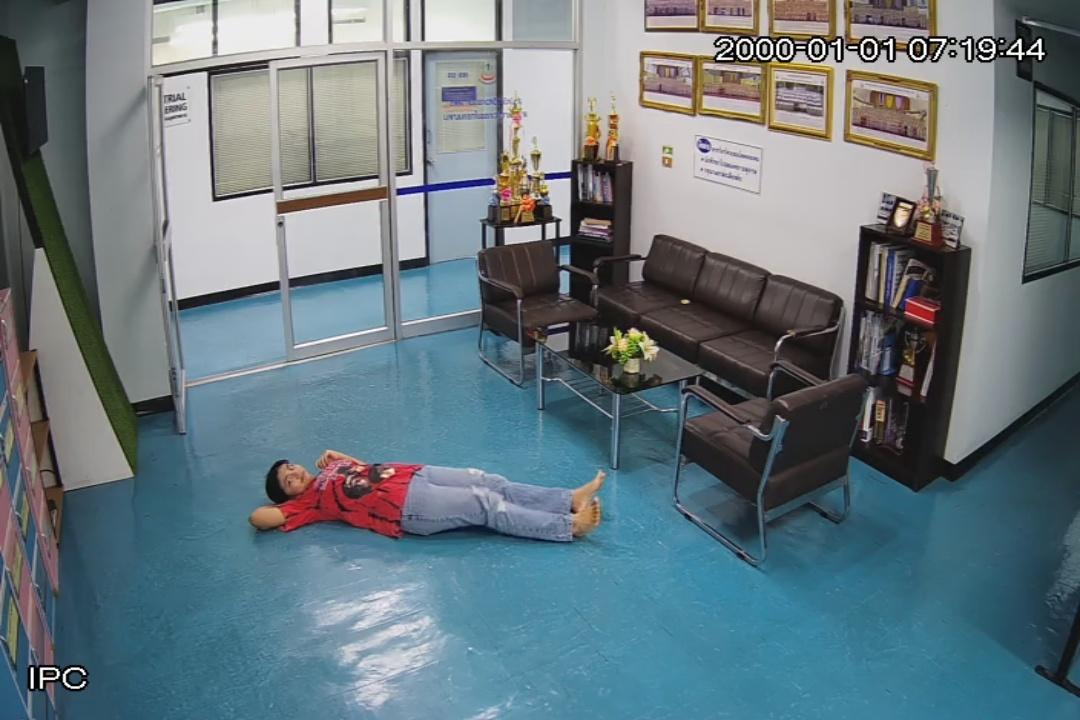fall: (255, 449, 598, 547)
